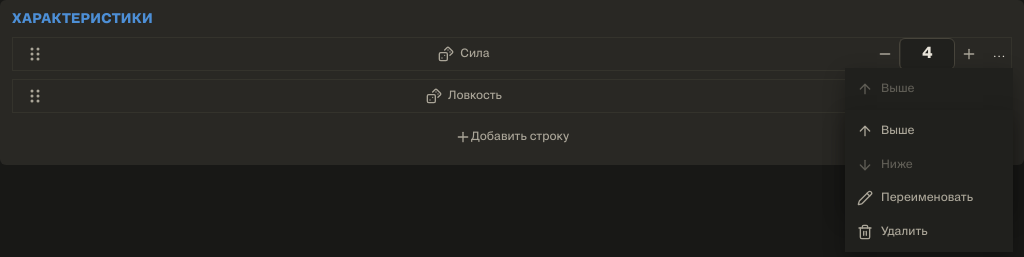
Scenario: карточка группы характеристик › names the stat value without action labels (layout editing=true)
Click the button "Сила". click: (464, 54)
box: [61,41,867,67]
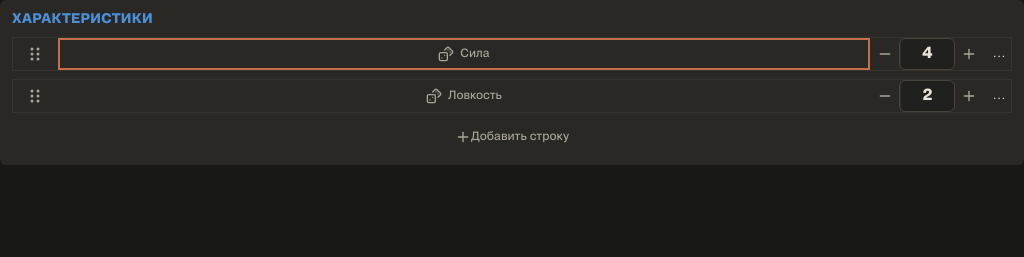
Expected: the button "Выше" is gone
